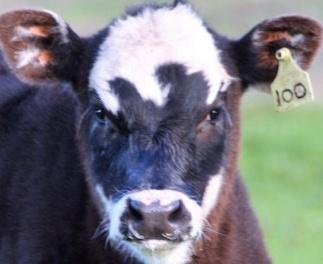muzzles: (109, 191, 202, 247)
